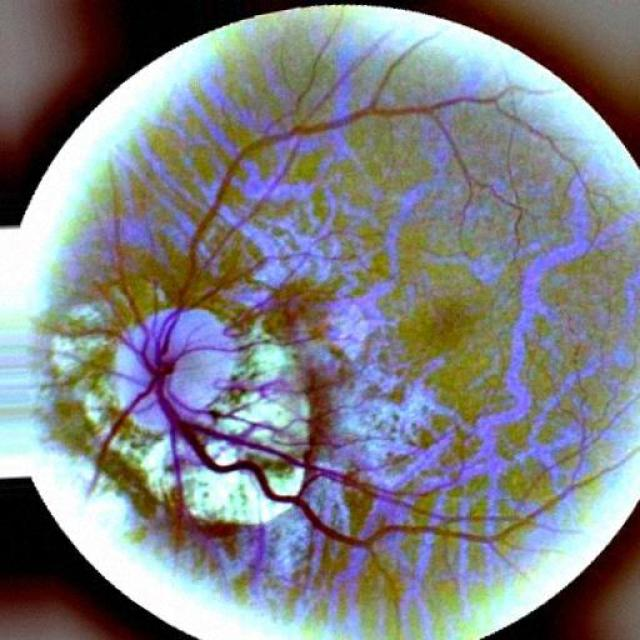Macula: (395, 288, 487, 358)
Nerves: (162, 405, 559, 575), (79, 177, 169, 451), (174, 410, 389, 494)
Optic Disk: (98, 309, 309, 522)
